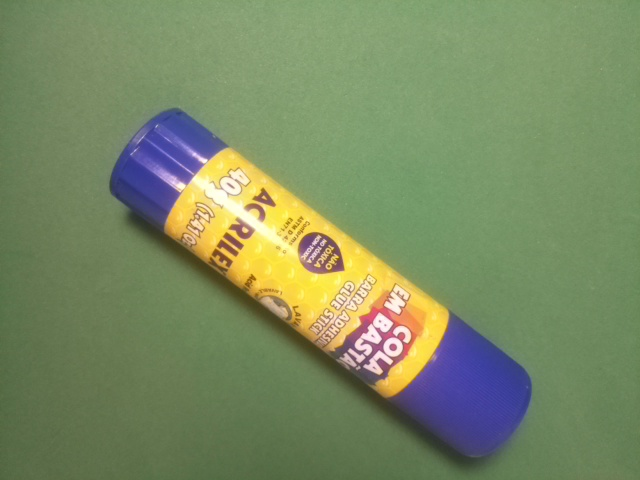Cola: (107, 108, 532, 464)
